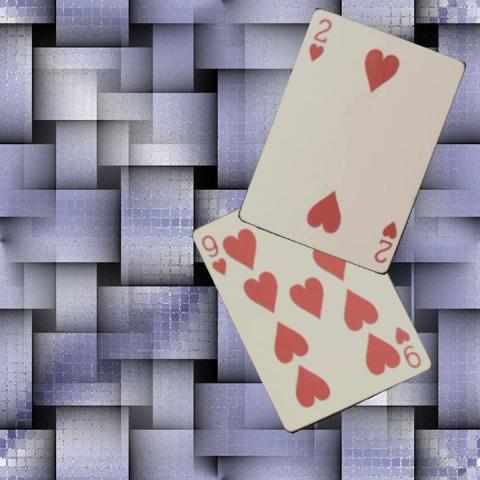2h: (306, 16, 334, 65), (370, 219, 398, 265)
9h: (392, 323, 423, 370), (198, 232, 228, 278)
